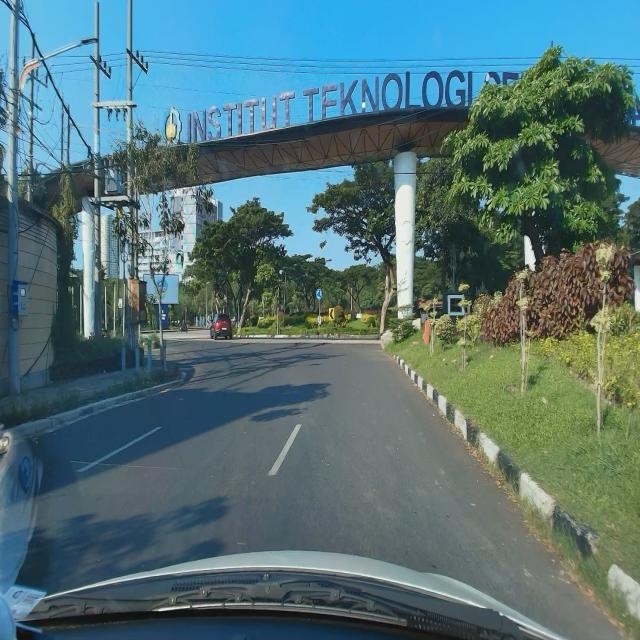car: (210, 313, 233, 340)
license-plate: (222, 327, 227, 330)
